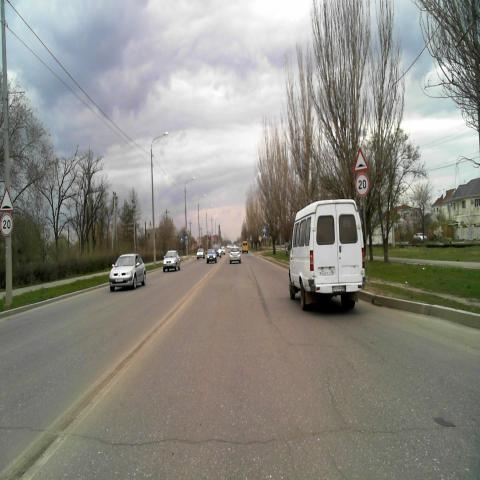1_17: (0, 186, 14, 213)
